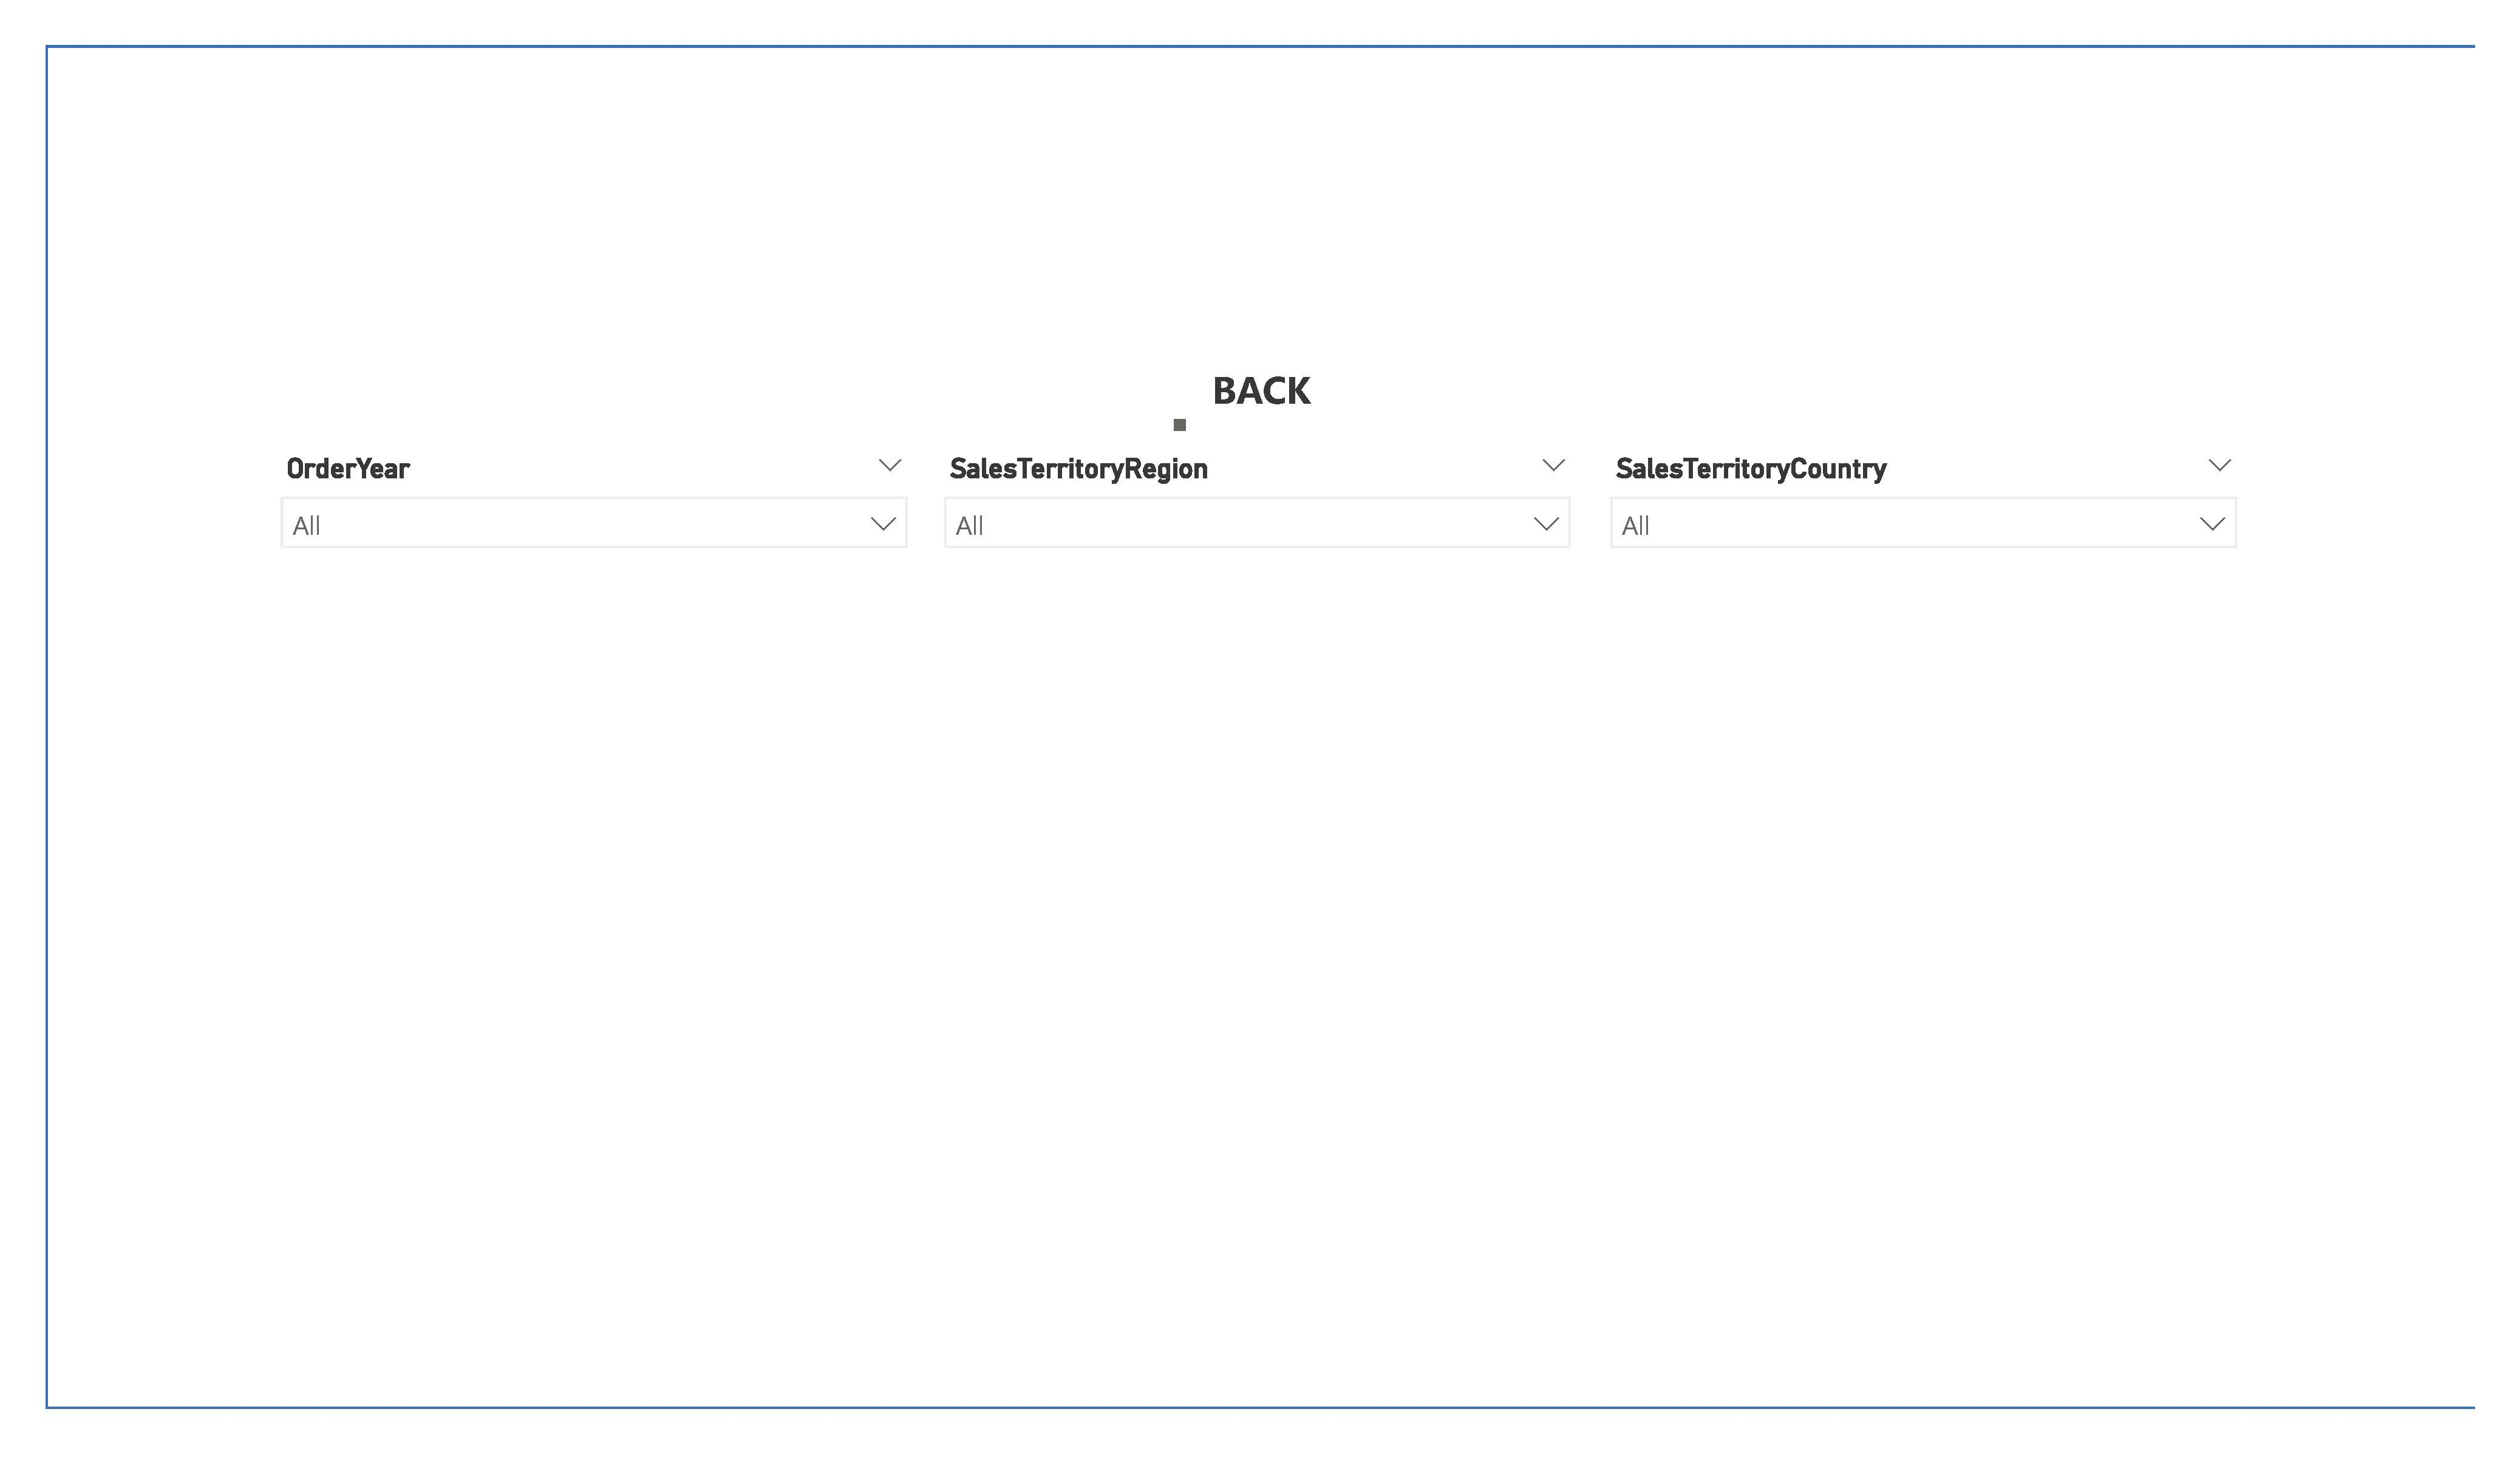

Layout of this report page (visuals, bound fields, positions):
{"tool":"powerbi","page":{"name":"Duplicate of Overview","canvas":[1280,720],"ordinal":4},"visuals":[{"type":"tableEx","fields":{"Values":["DimEmployee.EmployeePhoto","DimEmployee.Employee Name","DimEmployee.EmailAdress","_Measure.Sales Life Time","_Measure.Total Sales PY YTD","_Measure.Total Sales","_Measure.Total Sales YTD","_Measure.Total Sales YoY%"]},"box":[365.6,190.6,914.8,437.6],"z":0},{"type":"textbox","box":[365.6,52.2,914.8,76.2],"z":1000},{"type":"image","box":[0,26.8,365.6,125.6],"z":2000},{"type":"slicer","fields":{"Values":["OrderDate.OrderYear"]},"box":[0,190.6,365.6,74.8],"z":3000},{"type":"slicer","fields":{"Values":["DimSalesTerritory.SalesTerritoryCountry"]},"box":[0,338.8,365.6,73.4],"z":4000},{"type":"slicer","fields":{"Values":["DimSalesTerritory.SalesTerritoryRegion"]},"box":[0,265.4,365.6,73.4],"z":5000}]}

Visuals, with their boxes on the page's 1280x720 design canvas (x1, y1, x2, y2). These are canvas units, not pixel positions in the 2520x1457 screenshot, which may show the page scaled, cropped or inside an application window:
tableEx - DimEmployee.EmployeePhoto x DimEmployee.Employee Name: (366,191,1280,628)
textbox: (366,52,1280,128)
image: (0,27,366,152)
slicer - OrderDate.OrderYear: (0,191,366,265)
slicer - DimSalesTerritory.SalesTerritoryCountry: (0,339,366,412)
slicer - DimSalesTerritory.SalesTerritoryRegion: (0,265,366,339)
